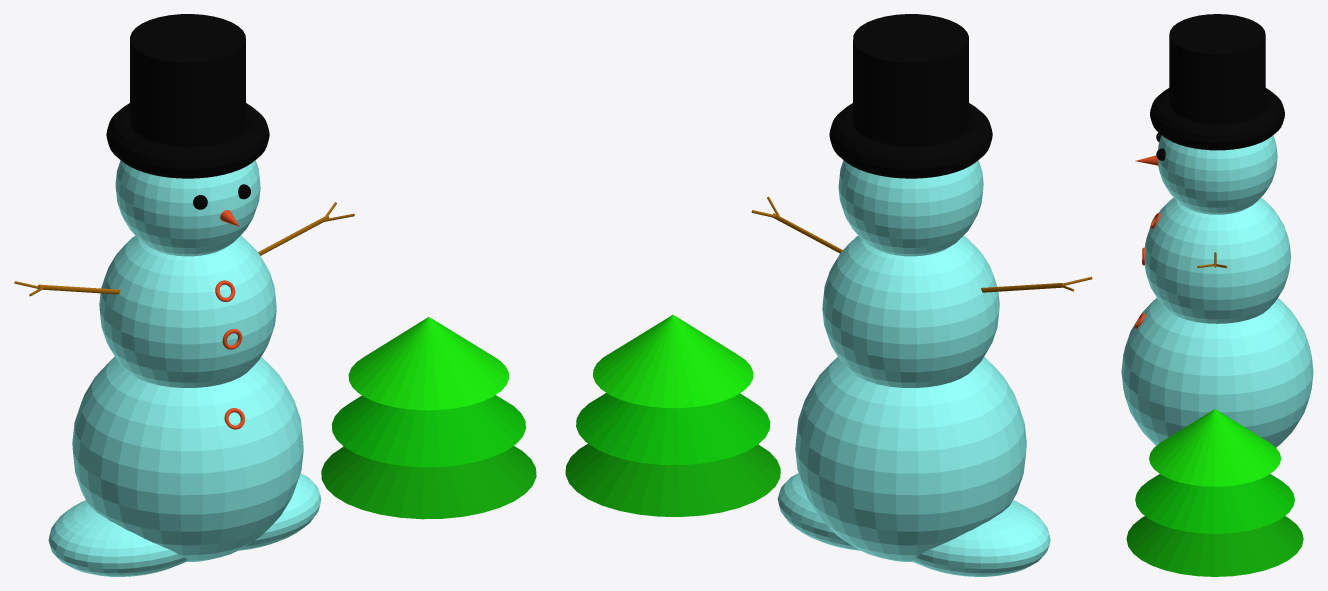
The model's file is asset.glb.
3 views of the same model, side by side, from view 1: azimuth 30°, elevation 25°; view 2: azimuth 150°, elevation 25°; view 3: azimuth 270°, elevation 25° (orthographic). The views are drawn at different scales.
Visible parts, largest first — view 1: Sphere, Sphere.001, Cylinder, Cone.001, Cone.002, Cone.003, Sphere.002, Torus, Sphere.006, Sphere.005; view 2: Sphere, Sphere.001, Cylinder, Cone.001, Cone.002, Sphere.002, Cone.003, Torus, Sphere.006, Sphere.005; view 3: Sphere, Sphere.001, Cylinder, Cone.001, Cone.002, Sphere.002, Cone.003, Torus.
Part boxes in pixels (<box>): Sphere: <box>72,356,303,562</box>; Sphere.001: <box>99,235,276,387</box>; Cylinder: <box>130,14,245,146</box>; Cone.001: <box>321,446,536,519</box>; Cone.002: <box>332,395,525,467</box>; Cone.003: <box>348,317,508,410</box>; Sphere.002: <box>115,160,260,256</box>; Torus: <box>106,103,269,178</box>; Sphere.006: <box>48,500,186,576</box>; Sphere.005: <box>239,473,321,550</box>; Sphere: <box>795,356,1026,562</box>; Sphere.001: <box>822,235,999,387</box>; Cylinder: <box>853,14,968,146</box>; Cone.001: <box>565,444,780,516</box>; Cone.002: <box>576,393,770,464</box>; Sphere.002: <box>838,160,983,256</box>; Cone.003: <box>593,314,753,408</box>; Torus: <box>829,103,992,178</box>; Sphere.006: <box>912,500,1050,576</box>; Sphere.005: <box>777,473,859,550</box>; Sphere: <box>1121,298,1313,447</box>; Sphere.001: <box>1144,197,1290,323</box>; Cylinder: <box>1169,14,1265,123</box>; Cone.001: <box>1126,516,1303,576</box>; Cone.002: <box>1135,474,1294,533</box>; Sphere.002: <box>1158,135,1277,214</box>; Cone.003: <box>1149,409,1280,486</box>; Torus: <box>1150,88,1284,150</box>.
Bounding box in the file's own units: 1.54 × 1.5 × 0.6149.
